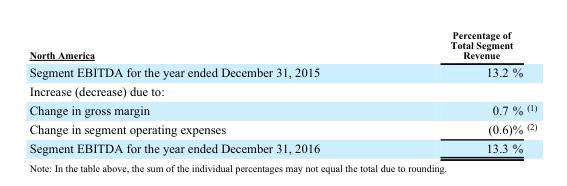table: (28, 28, 536, 154)
table column: (28, 28, 384, 154), (384, 28, 524, 154), (524, 28, 536, 154)
table column header: (28, 28, 536, 81)
table projected row header: (28, 81, 536, 100)
table row: (28, 28, 536, 81), (28, 81, 536, 100), (28, 100, 536, 119), (28, 119, 536, 138), (28, 138, 536, 154)
